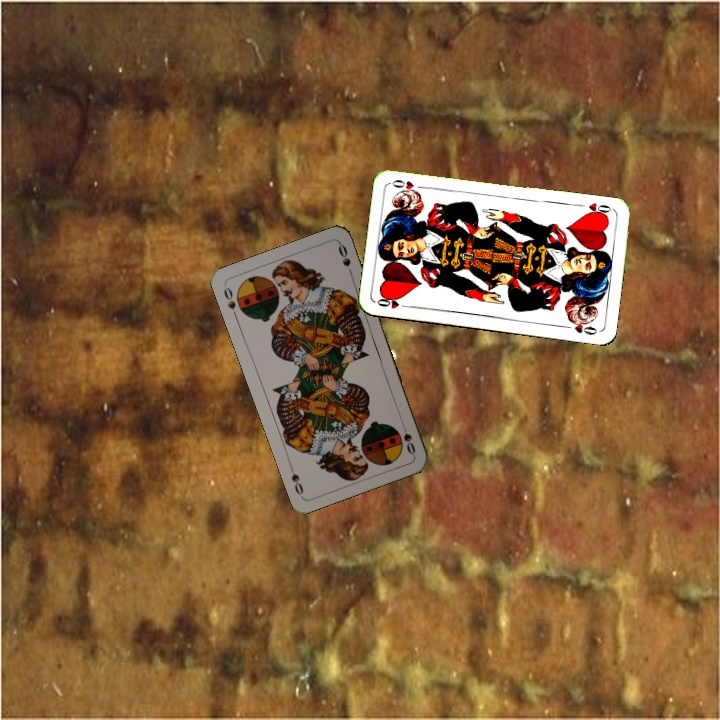HO: (373, 293, 413, 311), (581, 199, 616, 219)
SO: (397, 418, 418, 458), (220, 283, 240, 321)
